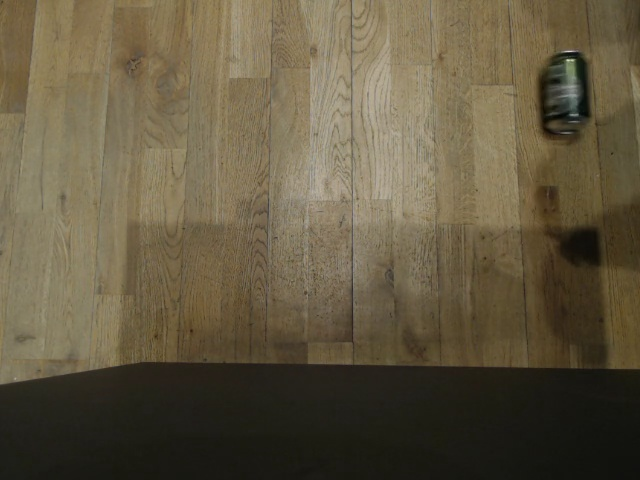beer: (536, 48, 595, 141)
